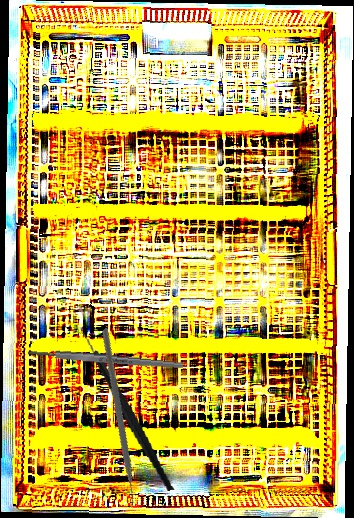Chopper: (23, 327, 206, 514), (67, 317, 177, 503)
Scalpel Handle: (27, 347, 184, 371)
